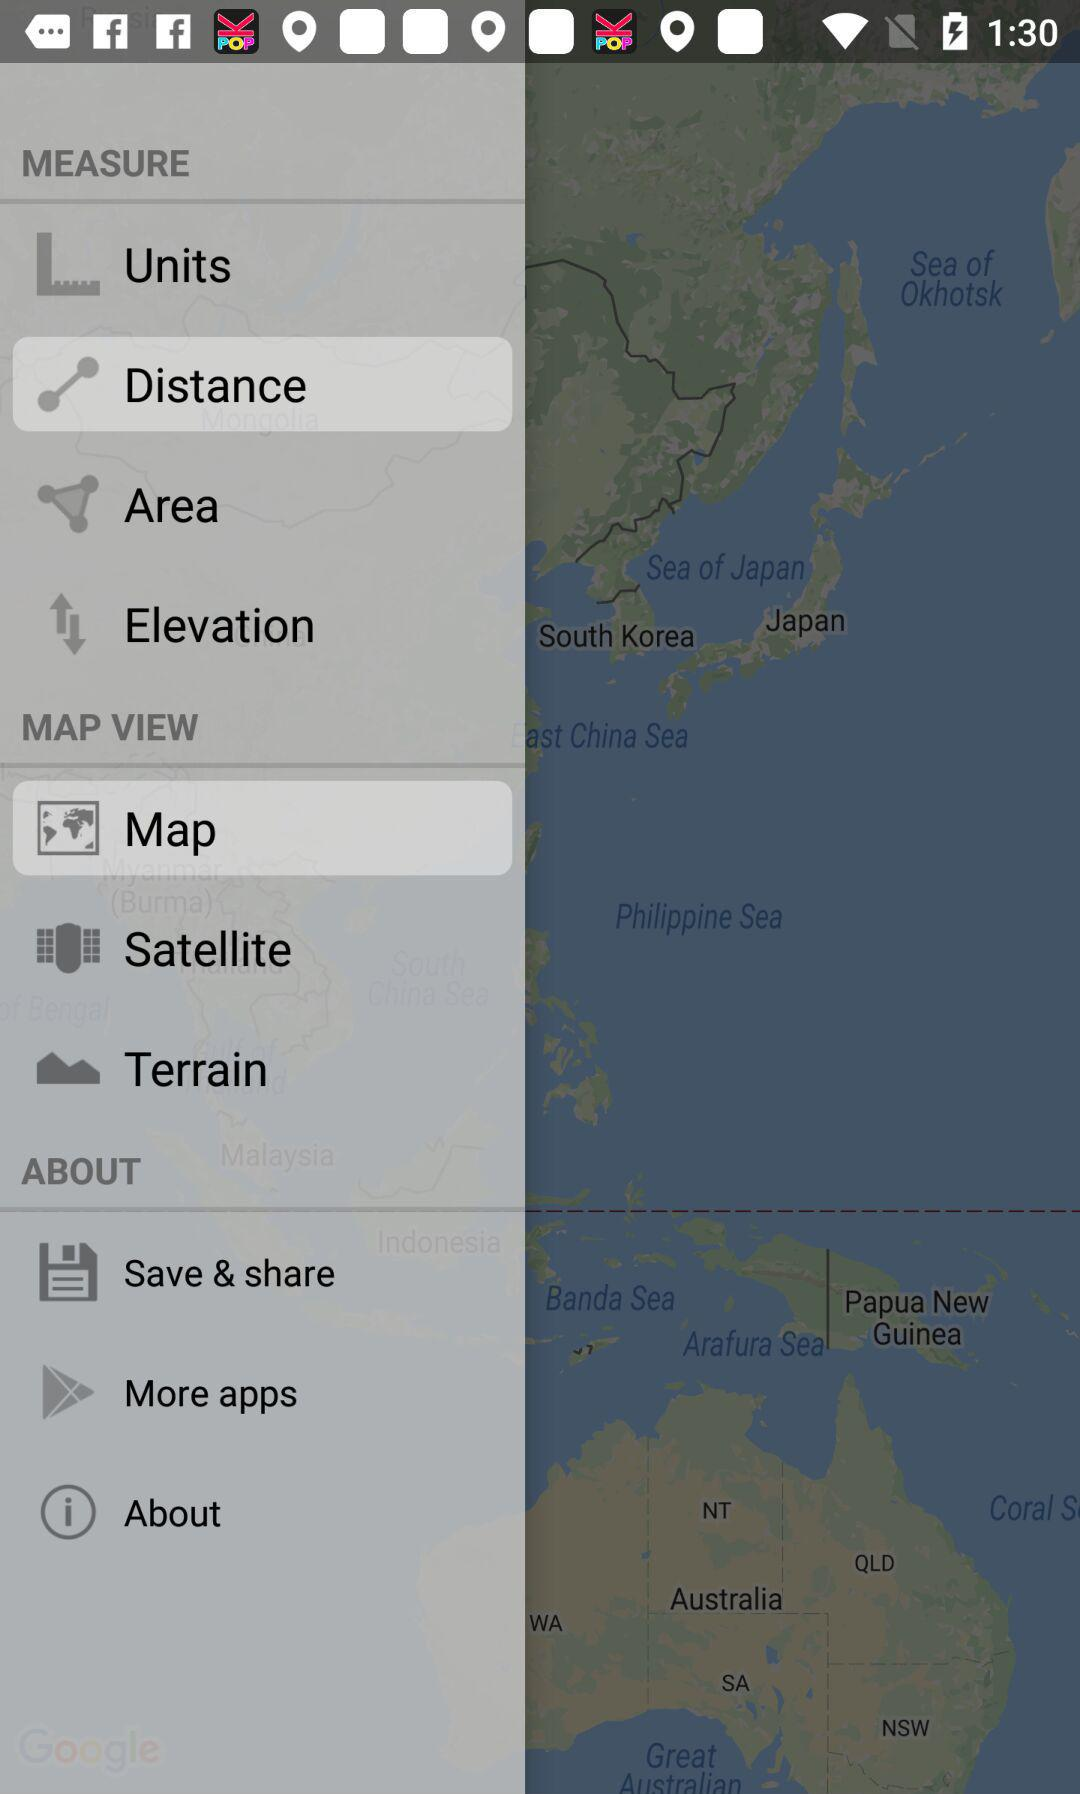Drawer: (1, 64, 527, 1794)
Icon: (40, 1484, 97, 1542), (42, 1363, 96, 1422), (49, 592, 88, 657)
Image: (36, 232, 102, 299), (38, 1240, 100, 1303), (37, 475, 101, 534), (37, 800, 101, 857), (37, 358, 101, 413), (36, 923, 102, 975), (36, 1051, 102, 1085)
Text: (126, 604, 316, 646), (126, 365, 307, 406), (123, 1257, 337, 1290), (124, 929, 293, 970), (120, 1378, 299, 1416), (124, 1049, 268, 1089), (22, 712, 201, 743), (22, 147, 192, 179), (123, 246, 234, 287), (126, 810, 218, 859), (20, 1156, 143, 1187), (123, 487, 219, 525), (122, 1498, 222, 1530)
UpperTaskBar: (1, 1, 1080, 64)
